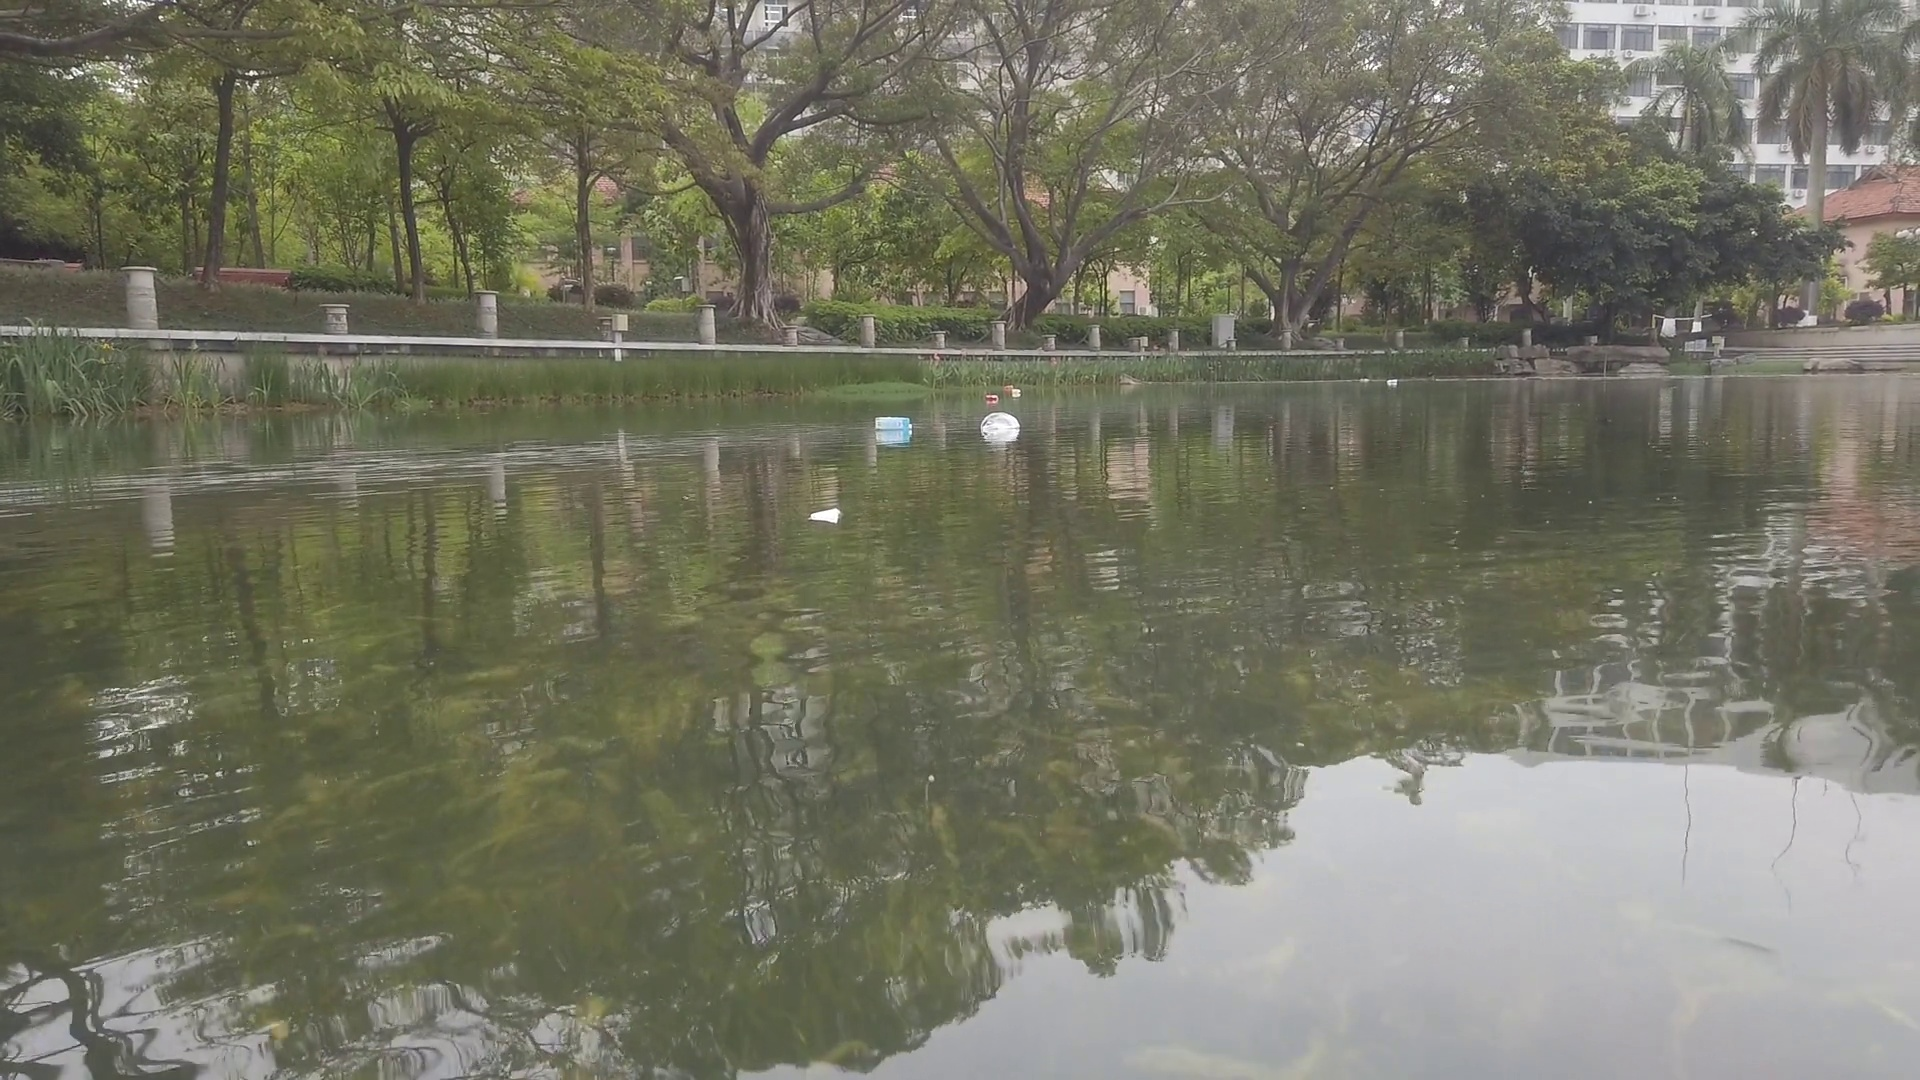bottle: (1011, 388, 1022, 397), (986, 393, 997, 401), (1006, 384, 1014, 392), (1389, 377, 1398, 384), (1360, 378, 1370, 381)
carton: (874, 415, 913, 430), (810, 509, 843, 524)
plastic: (981, 414, 1023, 431)
